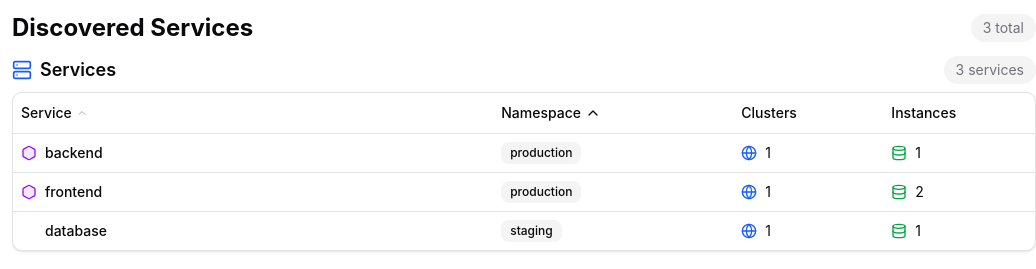
Test: ServiceList › should handle sorting by service name
# Click on Service header to sort by name
Click the text "Service". click: coordinates (46, 113)
box: [21,103,72,123]
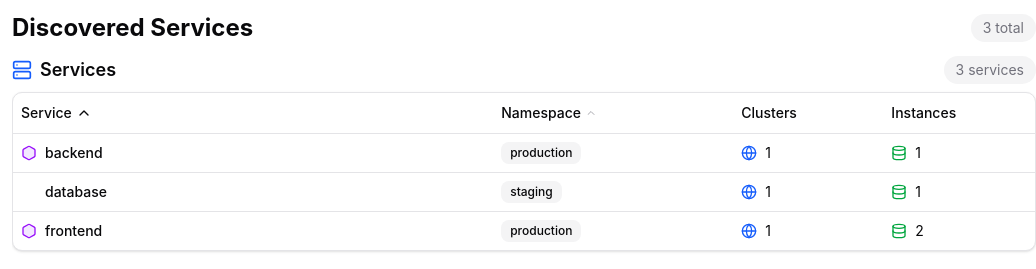
Expected: the row "backend production 1 1" is shown, [13,133,1035,172]
Expected: the row "database staging 1 1" is shown, [13,172,1035,211]
Expected: the row "frontend production 1 2" is shown, [13,211,1035,250]
